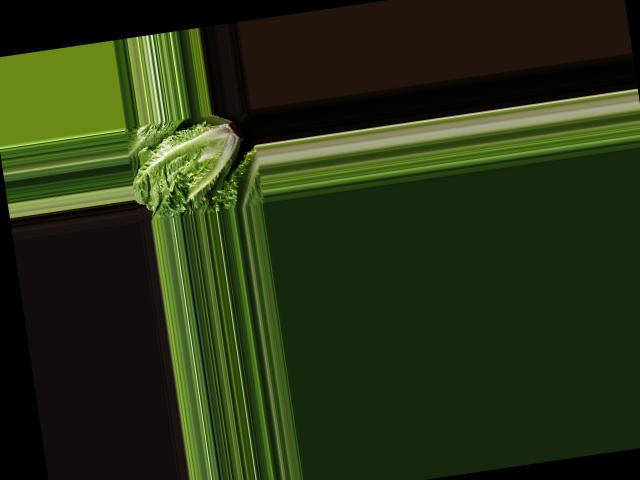lettuce: (125, 108, 257, 215)
